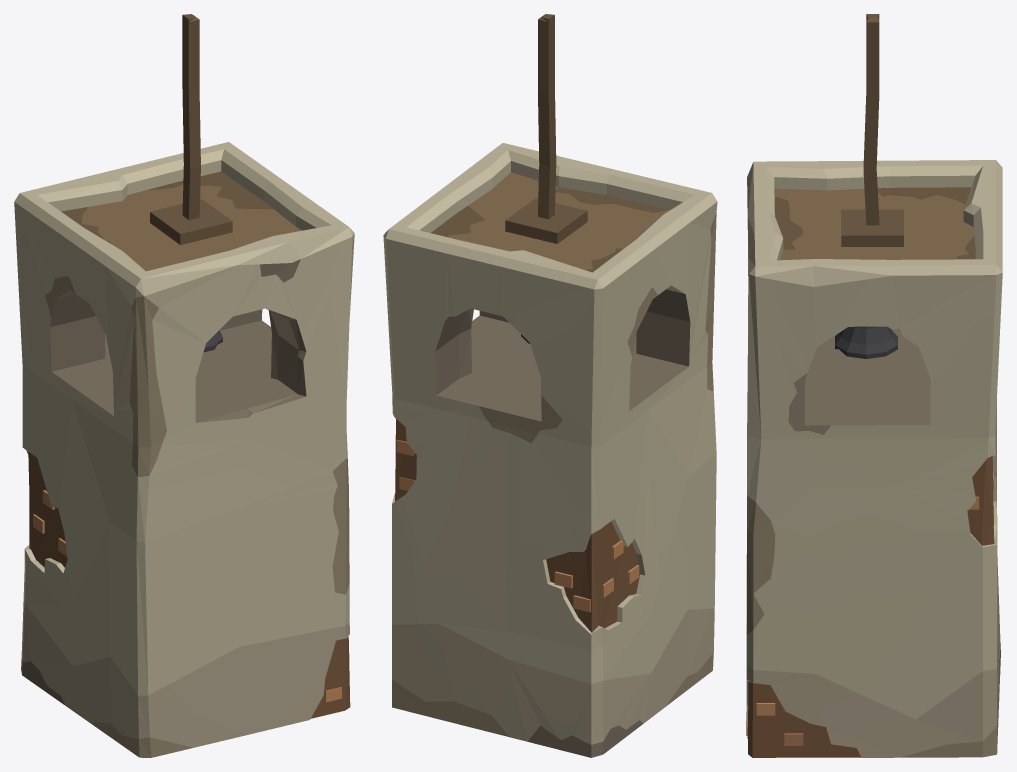
Rendered from SM_Bld_Village_07.gltf.
3 renders of one model, left to right at view 1: azimuth 30°, elevation 25°; view 2: azimuth 150°, elevation 25°; view 3: azimuth 270°, elevation 25°, orthographic. The views are drawn at different scales.
Parts seen in each view (by area): view 1: SM_Bld_Village_07; view 2: SM_Bld_Village_07; view 3: SM_Bld_Village_07.
Boxes of the visible parts, x1,y1,x2,y2 form: SM_Bld_Village_07: (14,14,354,757); SM_Bld_Village_07: (383,14,717,757); SM_Bld_Village_07: (746,14,1002,757).
Bounding box in the file's own units: 3.18 × 9.16 × 3.08.
1 material, 1 textured.
